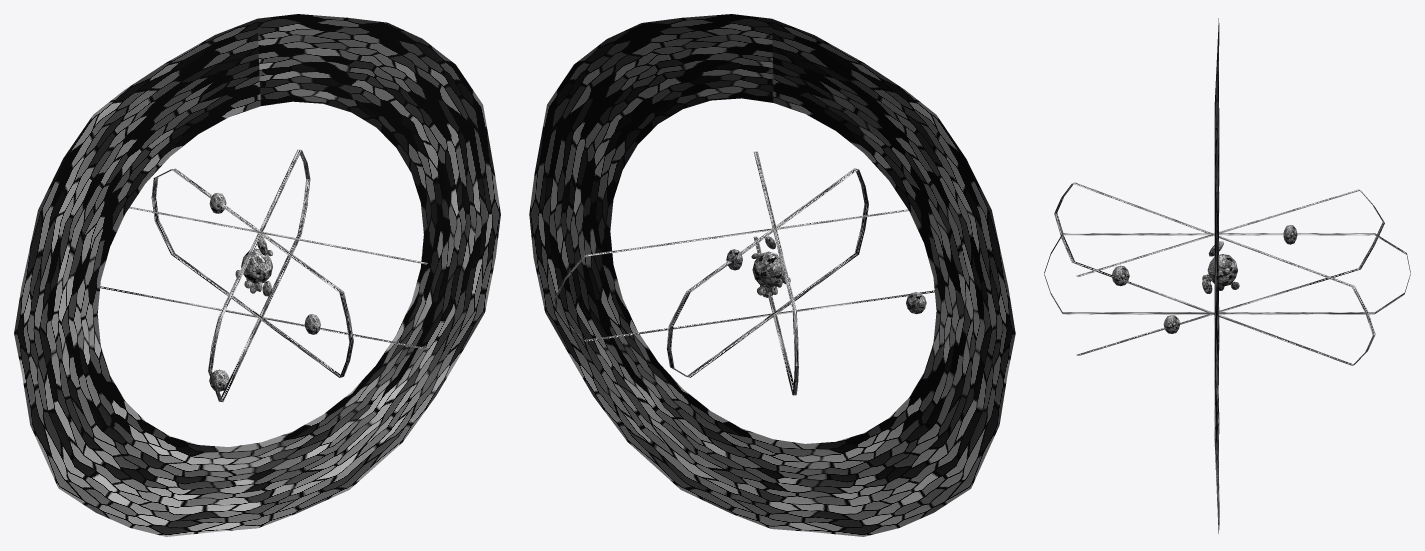
Rendered from artsPlanet.fbx.
3 renders of one model, left to right at view 1: azimuth 30°, elevation 25°; view 2: azimuth 150°, elevation 25°; view 3: azimuth 270°, elevation 25°, orthographic. The views are drawn at different scales.
Visible parts, largest first — view 1: Cube; view 2: Cube; view 3: Cube.
Part boxes in pixels (x1=…): Cube: x1=14, y1=14, x2=500, y2=536; Cube: x1=529, y1=14, x2=1015, y2=536; Cube: x1=1044, y1=18, x2=1410, y2=534.
Bounding box in the file's own units: 472 × 332 × 473.
1 material, 1 textured.
